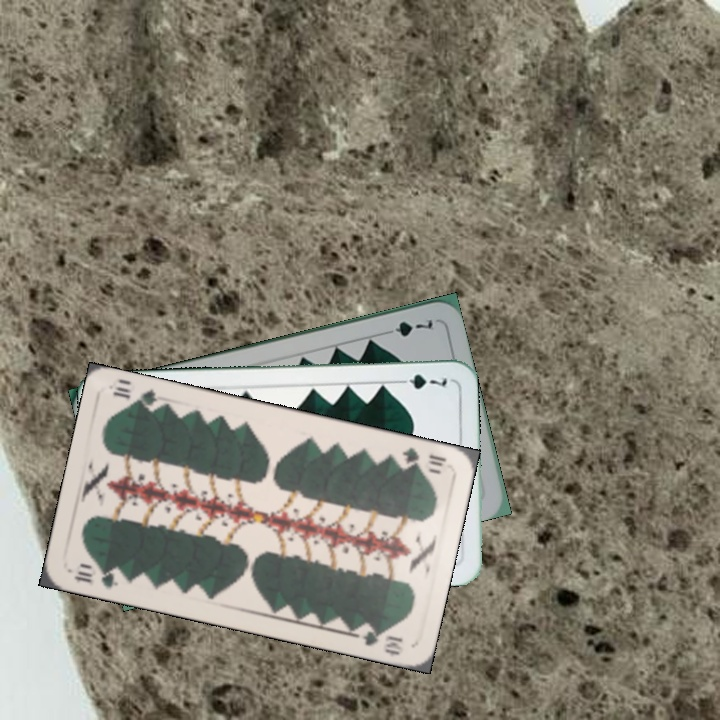G10: (69, 559, 121, 591), (398, 443, 449, 472)
G7: (378, 315, 438, 340), (392, 370, 449, 392)
